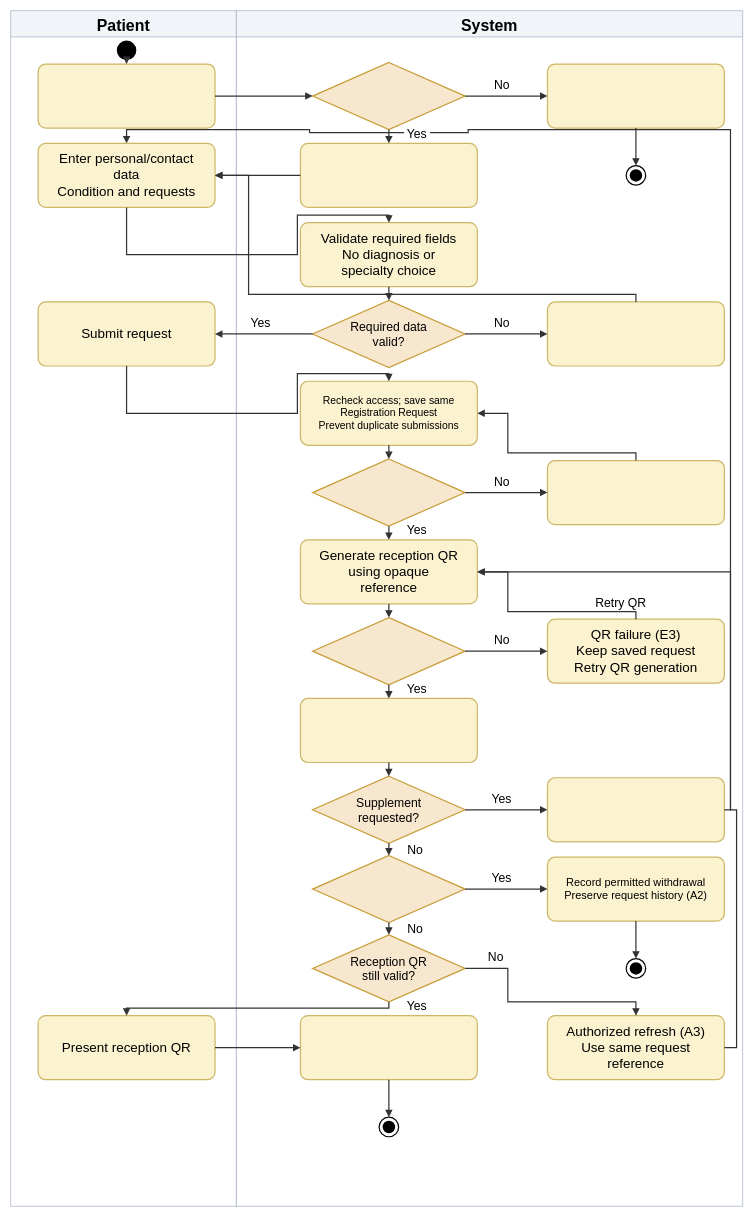
This 753x1217 diagram has some shape labels left out. The shapes that lost their labels are listed below. From the top down, each one's centre as x and y in pixels, then its label:
[126,95]: Open walk-in form
[388,96]: Authorized account or guest access?
[636,95]: Access failure (E4) Preserve records Recover access or cancel
[389,175]: Show localized form Retain patient context
[623,283]: Correct
[636,333]: Highlight invalid fields (E1) Keep data and context
[620,443]: Retry
[388,492]: Request saved successfully?
[636,492]: Save failure (E2) Keep fields; check result Retry same request
[388,651]: Reception QR ready?
[389,730]: Display QR and request status
[636,809]: Receive Receptionist request via UC08; notify Patient (A1) Retain same request
[388,889]: Patient requests withdrawal?
[389,1047]: Hand off to UC14 Reception approval is separate UC03 creates no Visit
